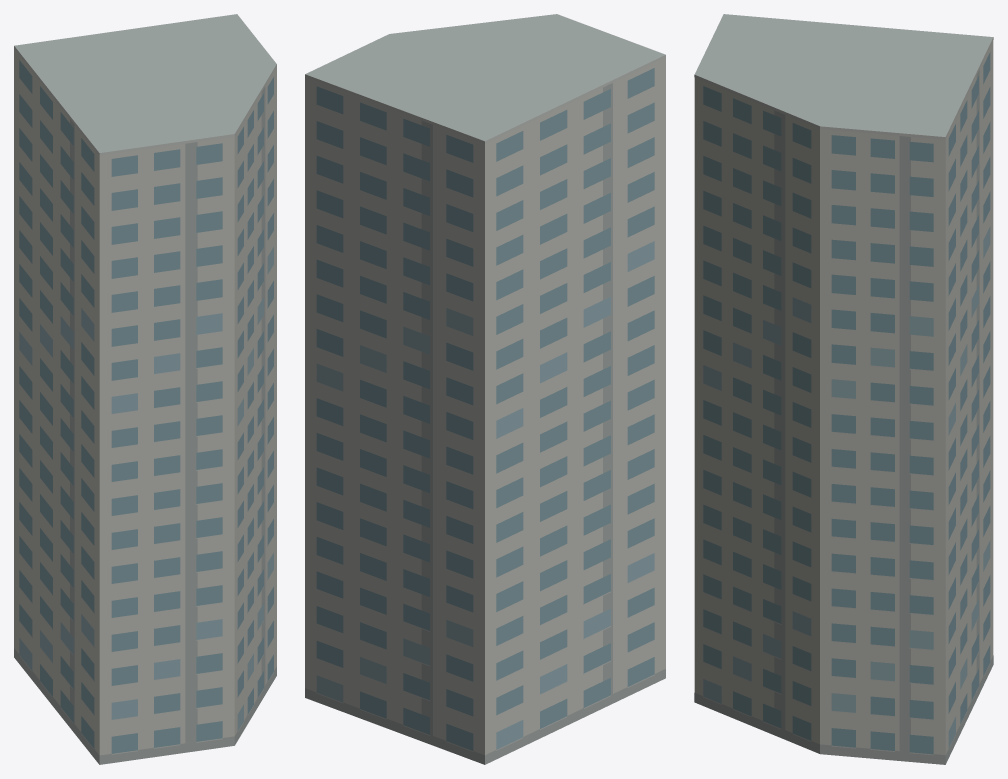
File: residential-d4f0371c-58c5-4bad-851f-a210311ae4a0.glb
3 views of the same model, side by side, from view 1: azimuth 30°, elevation 25°; view 2: azimuth 150°, elevation 25°; view 3: azimuth 270°, elevation 25° (orthographic). The views are drawn at different scales.
Parts seen in each view (by area): view 1: residential-d4f0371c-58c5-4bad-851f-a210311ae4a0.tmp; view 2: residential-d4f0371c-58c5-4bad-851f-a210311ae4a0.tmp; view 3: residential-d4f0371c-58c5-4bad-851f-a210311ae4a0.tmp.
Boxes of the visible parts, x1=… form: residential-d4f0371c-58c5-4bad-851f-a210311ae4a0.tmp: x1=14, y1=14, x2=276, y2=764; residential-d4f0371c-58c5-4bad-851f-a210311ae4a0.tmp: x1=305, y1=14, x2=665, y2=764; residential-d4f0371c-58c5-4bad-851f-a210311ae4a0.tmp: x1=694, y1=14, x2=993, y2=764.
Size of the model in its own units: 23.1 by 54.9 by 23.7.
